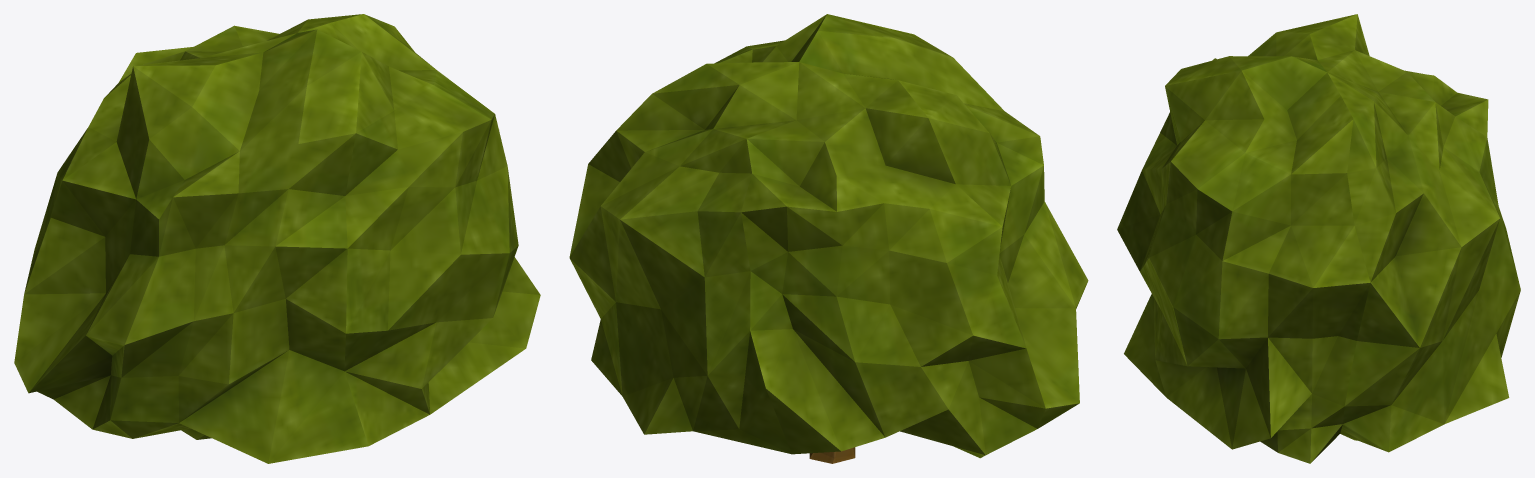
Rendered from oak_round.glb.
3 renders of one model, left to right at view 1: azimuth 30°, elevation 25°; view 2: azimuth 150°, elevation 25°; view 3: azimuth 270°, elevation 25°, orthographic. The views are drawn at different scales.
Parts seen in each view (by area): view 1: OakTree_mesh; view 2: OakTree_mesh; view 3: OakTree_mesh.
Boxes of the visible parts, x1,y1,x2,y2 form: OakTree_mesh: (14, 14, 540, 463); OakTree_mesh: (569, 14, 1088, 463); OakTree_mesh: (1117, 14, 1520, 463).
Size of the model in its own units: 16.1 by 13.09 by 12.42.
Materials: 1 (1 with a texture image).
